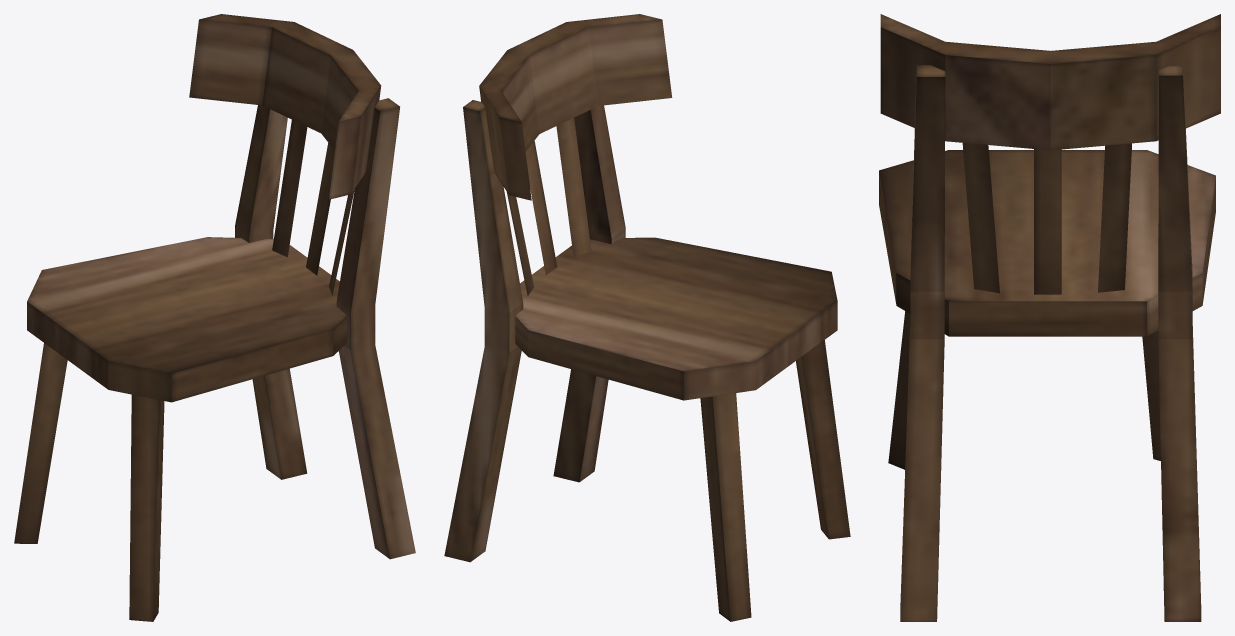
The model's file is StandardChair.fbx.
3 renders of one model, left to right at view 1: azimuth 30°, elevation 25°; view 2: azimuth 150°, elevation 25°; view 3: azimuth 270°, elevation 25°, orthographic. The views are drawn at different scales.
Visible parts, largest first — view 1: Cube.017; view 2: Cube.017; view 3: Cube.017.
Part boxes in pixels (bbox=[...]): Cube.017: bbox=[14, 14, 415, 621]; Cube.017: bbox=[444, 14, 850, 621]; Cube.017: bbox=[879, 14, 1220, 621].
Size of the model in its own units: 60 by 90 by 50.
Materials: 1 (1 with a texture image).
